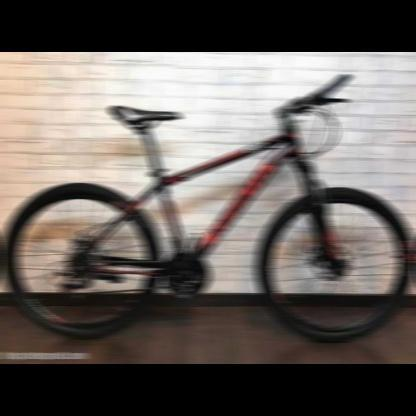Bicycle: (0, 76, 411, 339)
